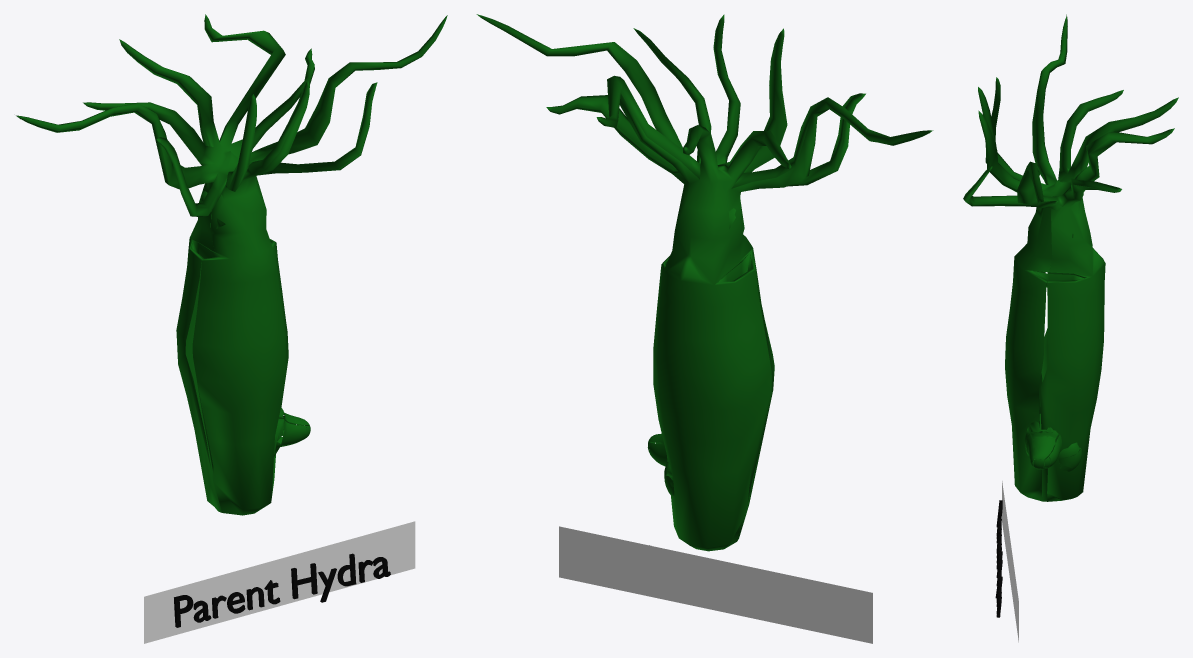
File: hydra.gltf
3 views of the same model, side by side, from view 1: azimuth 30°, elevation 25°; view 2: azimuth 150°, elevation 25°; view 3: azimuth 270°, elevation 25° (orthographic). The views are drawn at different scales.
Parts seen in each view (by area): view 1: Object_7.001, Plane.007, Text.006, thumb down; view 2: Object_7.001, Plane.007, thumb down; view 3: Object_7.001, thumb down, Plane.007, Text.006.
Part boxes in pixels (x1=…): Object_7.001: x1=16, y1=14, x2=447, y2=515; Plane.007: x1=144, y1=521, x2=415, y2=643; Text.006: x1=174, y1=553, x2=390, y2=627; thumb down: x1=274, y1=407, x2=310, y2=456; Object_7.001: x1=476, y1=14, x2=933, y2=551; Plane.007: x1=559, y1=526, x2=872, y2=643; thumb down: x1=647, y1=433, x2=674, y2=497; Object_7.001: x1=963, y1=14, x2=1178, y2=501; thumb down: x1=1024, y1=406, x2=1082, y2=471; Plane.007: x1=1002, y1=481, x2=1018, y2=642; Text.006: x1=995, y1=500, x2=1002, y2=617.
Size of the model in its own units: 14.39 by 17.19 by 7.05.
